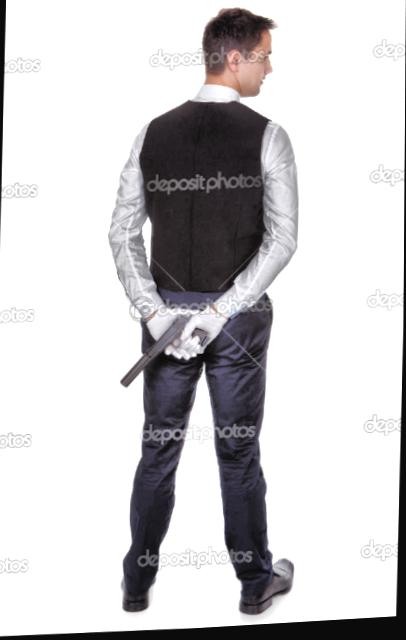pistol: (115, 305, 212, 405)
